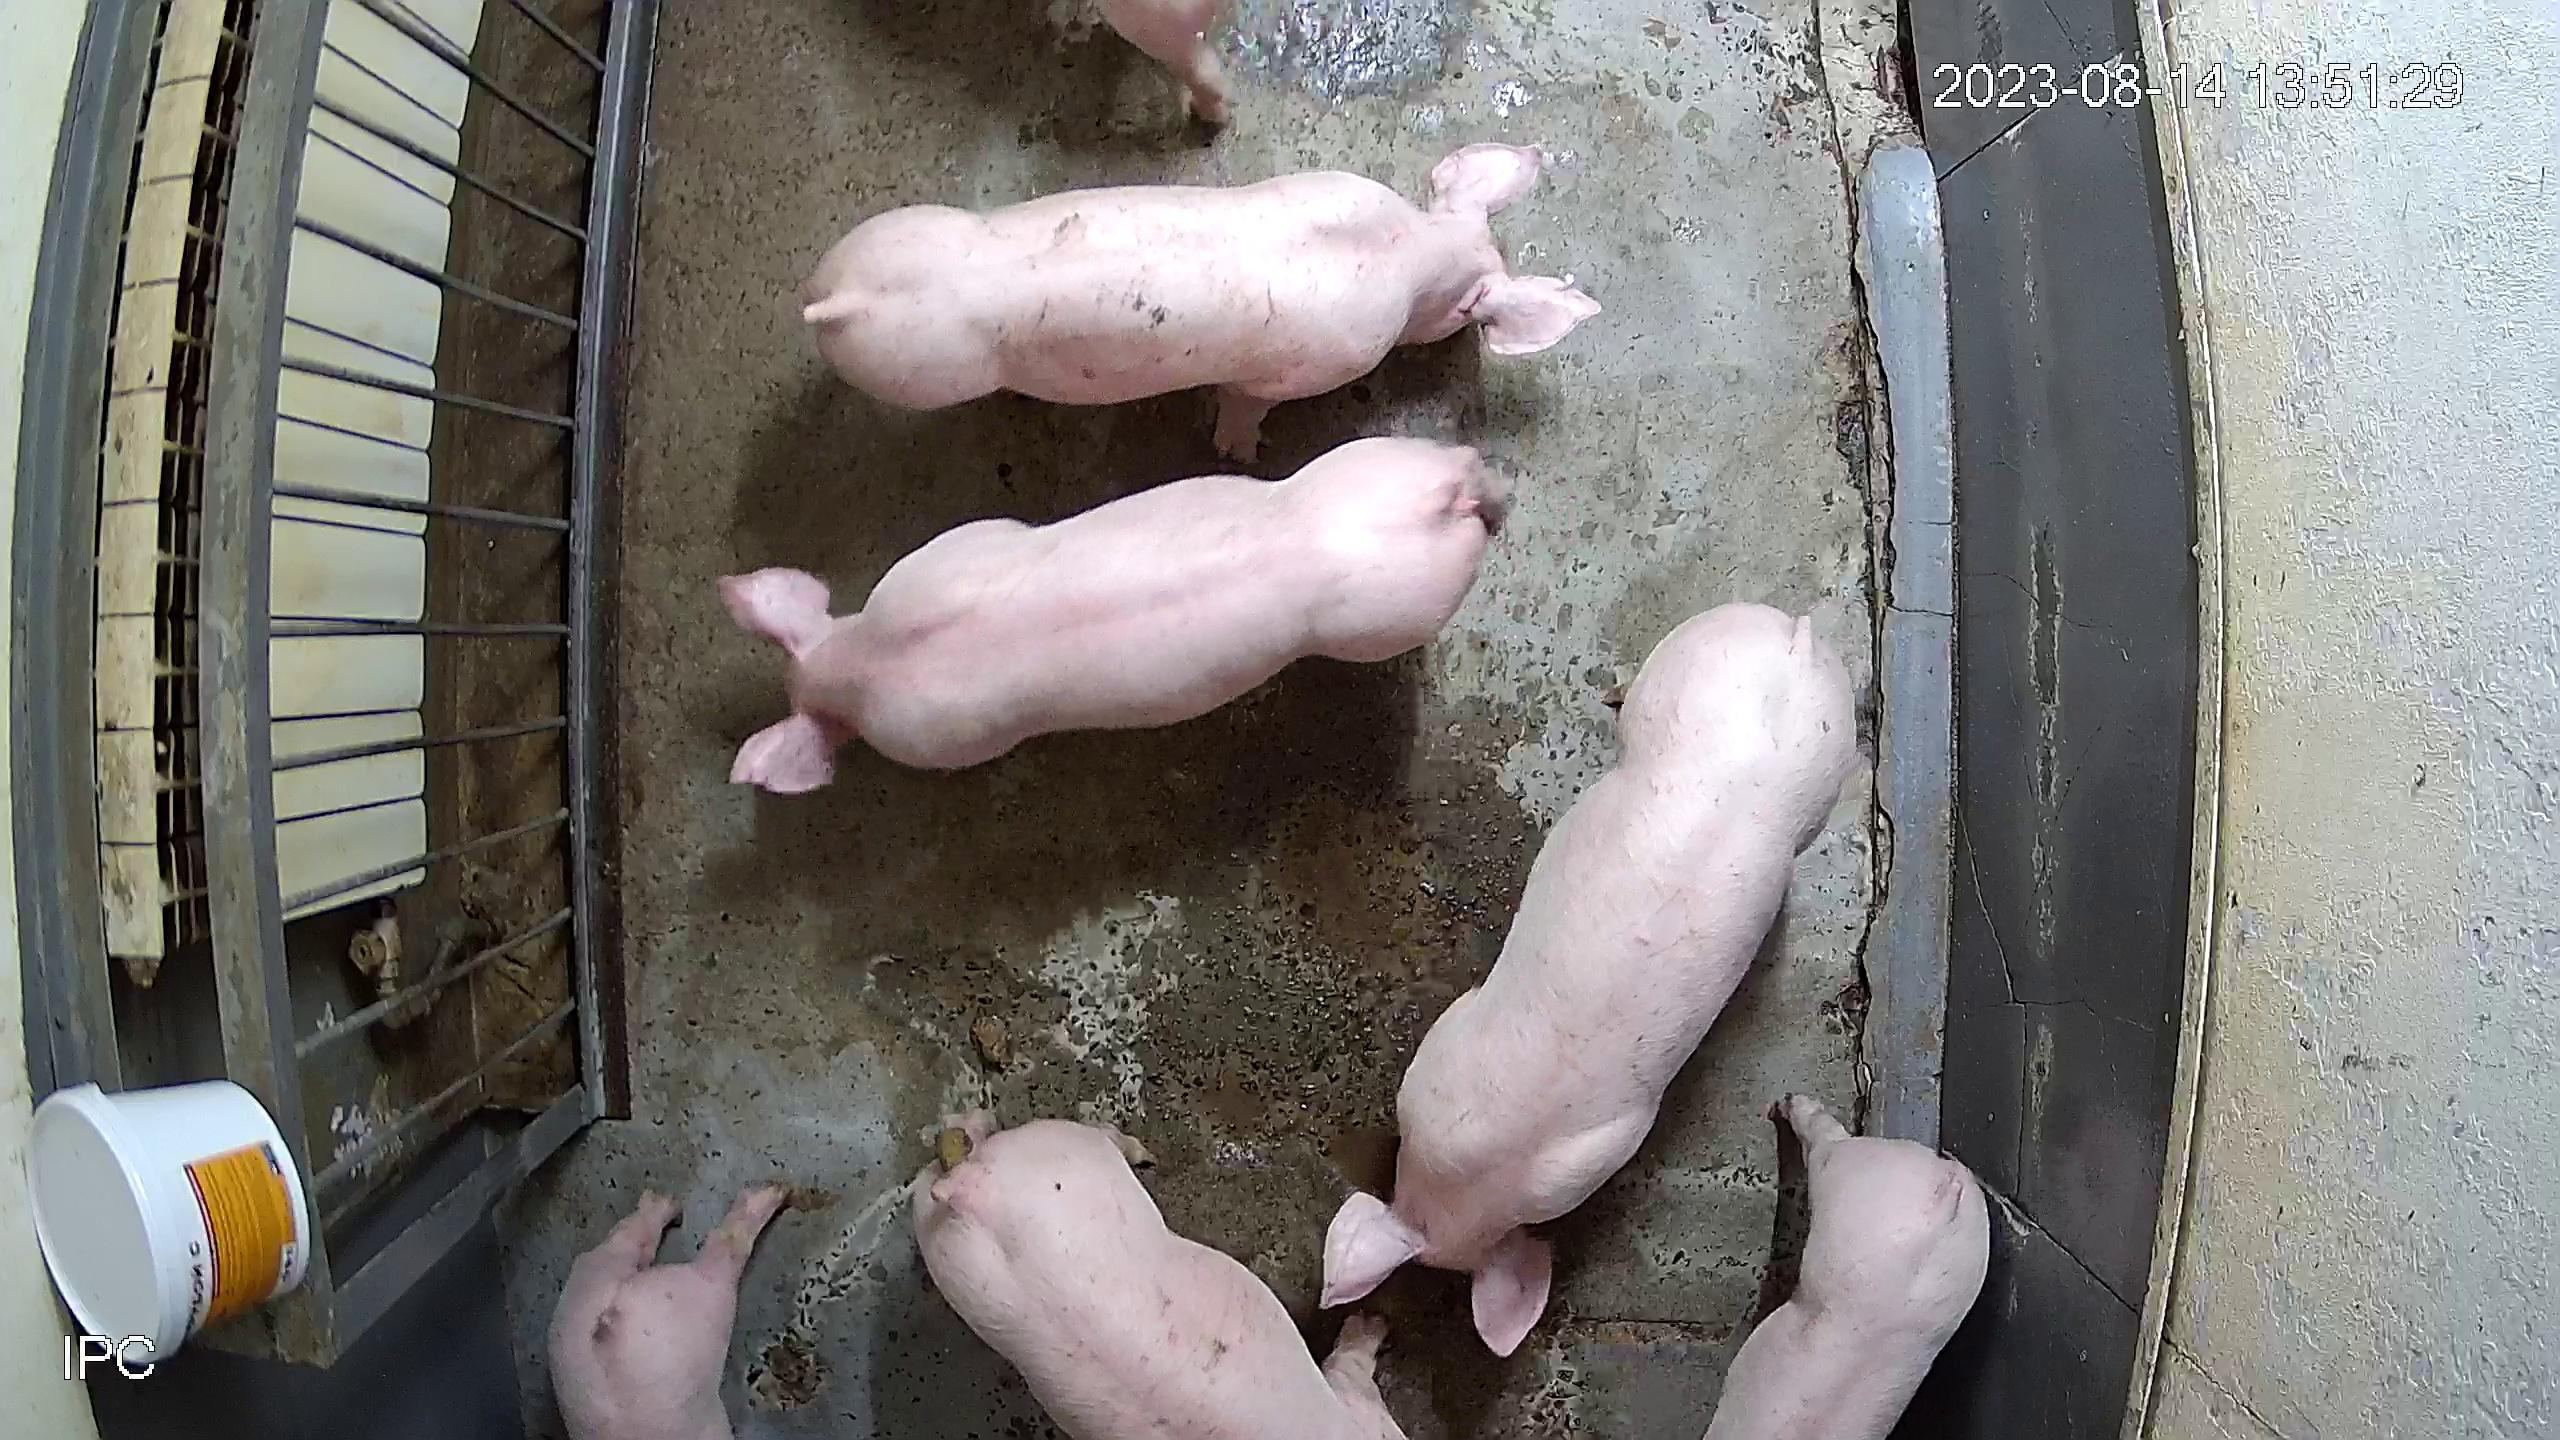Pig: (1326, 601, 1864, 1356), (717, 434, 1507, 791), (802, 139, 1602, 459), (913, 1109, 1405, 1440), (1707, 1094, 1994, 1440), (547, 1185, 782, 1440), (1097, 0, 1231, 121)
